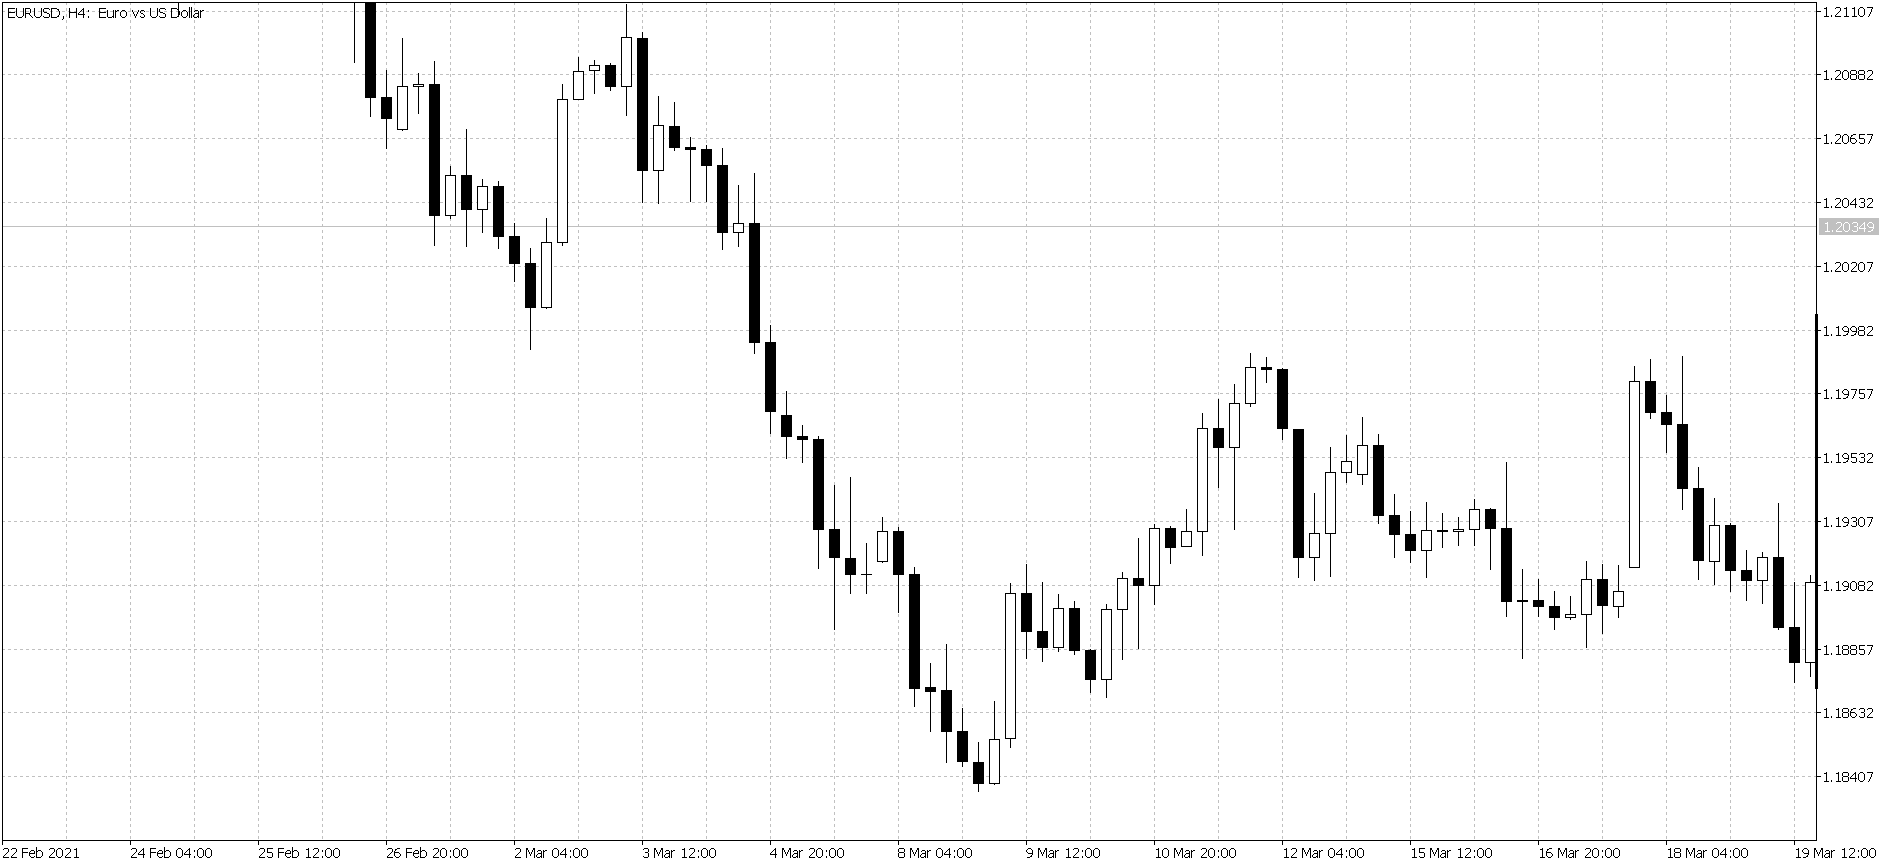3blackcrows: (1643, 353, 1692, 507)
bullishEngulfing: (519, 217, 552, 341), (972, 702, 1000, 796)
eveningStar: (1243, 348, 1289, 446), (573, 45, 618, 112)
